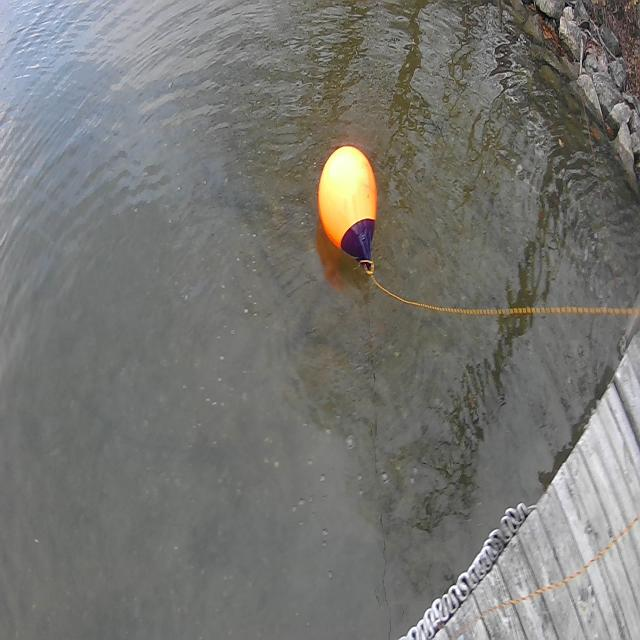Buoy: (314, 138, 383, 279)
